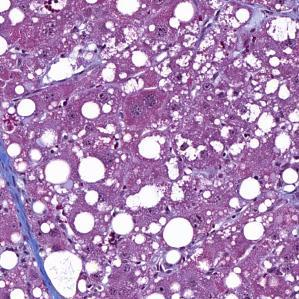fibrosis: (1, 167, 44, 261)
